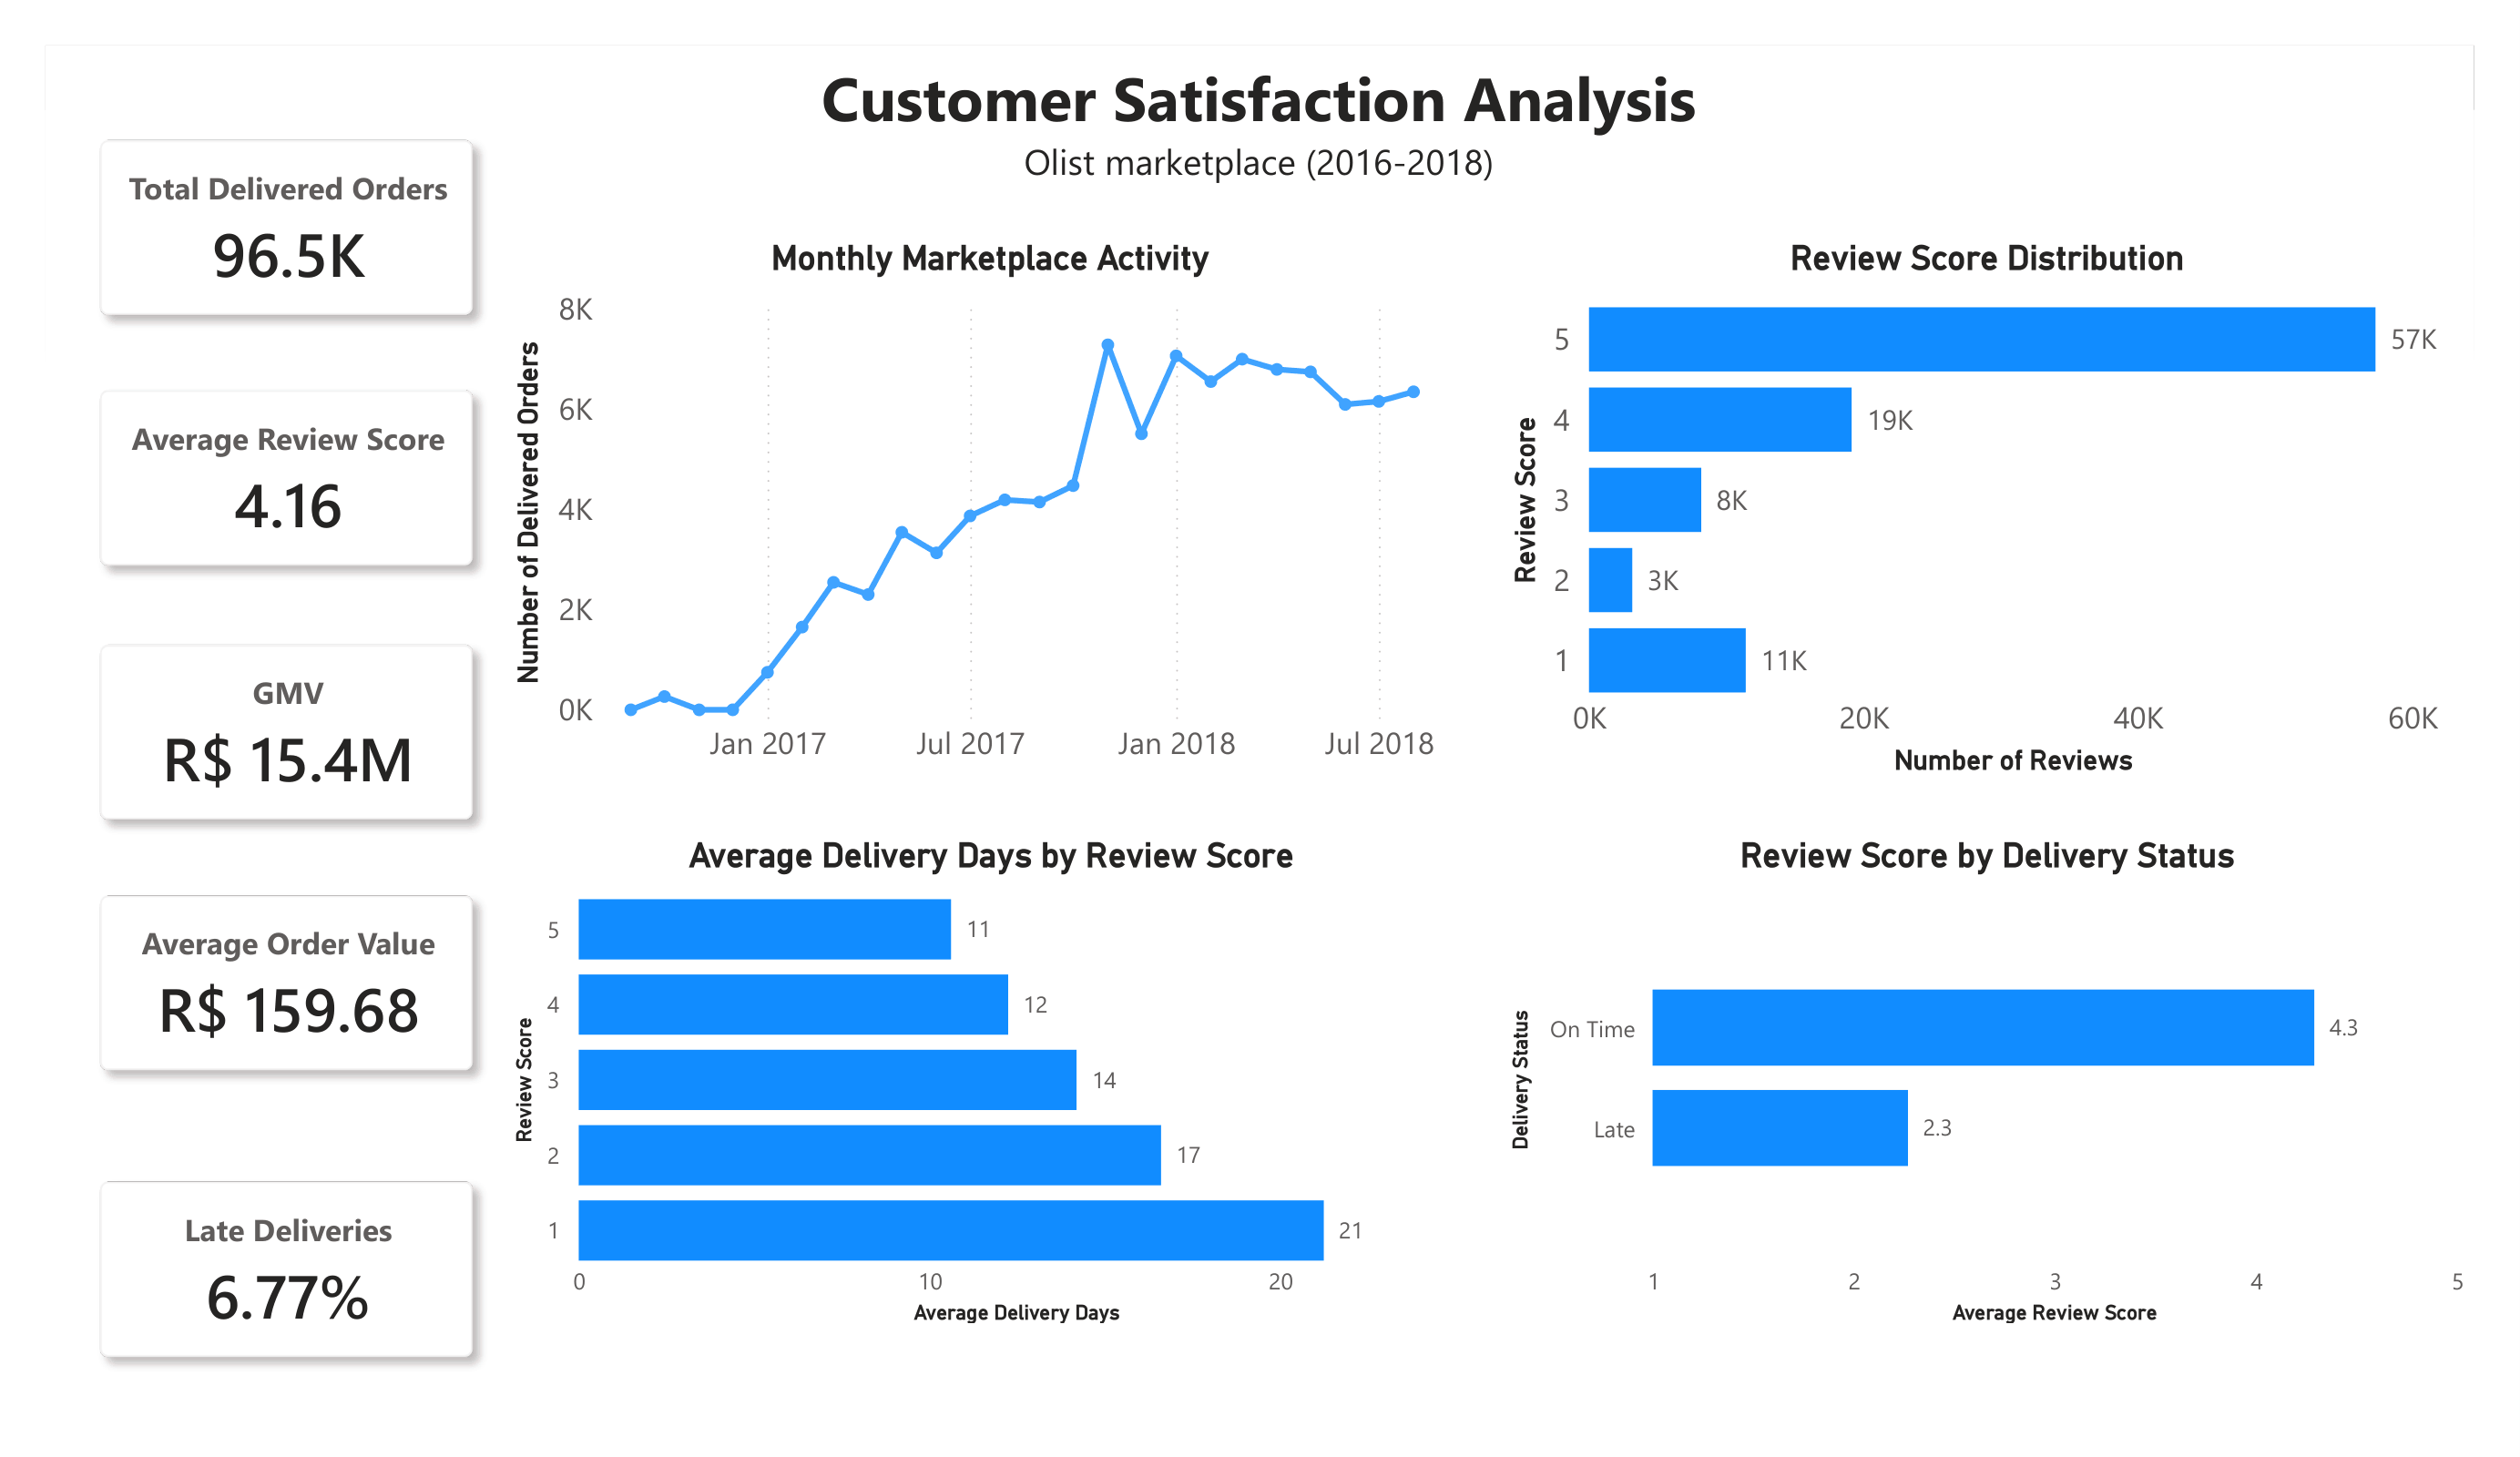

The page's visual inventory and layout, read from the dashboard file:
{"tool":"powerbi","page":{"name":"Executive Overview","canvas":[1280,720],"ordinal":0},"visuals":[{"type":"textbox","box":[174.7,0,929.4,82.9],"z":0},{"type":"cardVisual","fields":{"Data":["Total_delivered_orders.Delivery Display"]},"box":[0,21.4,255,150.4],"z":1},{"type":"cardVisual","fields":{"Data":["Sum(Avg_review_score.Column2)"]},"box":[0,152.7,255,150.4],"z":2},{"type":"cardVisual","fields":{"Data":["GMV.GMV Display"]},"box":[0,286.5,255,150.4],"z":3},{"type":"cardVisual","fields":{"Data":["Sum(Avg_order_value.Column2)"]},"box":[0,419.1,255,150.4],"z":4},{"type":"cardVisual","fields":{"Data":["Sum(Late Deliveries.Column2)"]},"box":[0,569.6,255,150.4],"z":5},{"type":"lineChart","title":"Monthly Marketplace Activity","fields":{"Y":["Sum(monthly_activity.total_orders)"],"Category":["monthly_activity.purchase_month.Variation.Date Hierarchy.Year","monthly_activity.purchase_month.Variation.Date Hierarchy.Month"]},"box":[241,100.7,513.8,288.1],"z":6},{"type":"clusteredBarChart","title":"Review Score Distribution","fields":{"Category":["review_score_distr.review_score"],"Y":["Sum(review_score_distr.review_count)"]},"box":[767.5,100.7,512.5,288.1],"z":7},{"type":"clusteredBarChart","title":"Average Delivery Days by Review Score","fields":{"Category":["avg_delivery_by_score.review_score"],"Y":["Sum(avg_delivery_by_score.avg_delivery_days)"]},"box":[242.2,415.6,512.5,262.6],"z":8},{"type":"clusteredBarChart","title":"Review Score by Delivery Status","fields":{"Category":["delivery_status.delivery_status"],"Y":["Sum(delivery_status.avg_review_score)"]},"box":[767.5,415.6,512.5,262.6],"z":9}]}

Visuals, with their boxes on the page's 1280x720 design canvas (x1, y1, x2, y2). These are canvas units, not pixel positions in the 2520x1457 screenshot, which may show the page scaled, cropped or inside an application window:
textbox: pyautogui.locateOnScreen(175, 0, 1104, 83)
cardVisual - Total_delivered_orders.Delivery Display: pyautogui.locateOnScreen(0, 21, 255, 172)
cardVisual - Sum(Avg_review_score.Column2): pyautogui.locateOnScreen(0, 153, 255, 303)
cardVisual - GMV.GMV Display: pyautogui.locateOnScreen(0, 286, 255, 437)
cardVisual - Sum(Avg_order_value.Column2): pyautogui.locateOnScreen(0, 419, 255, 570)
cardVisual - Sum(Late Deliveries.Column2): pyautogui.locateOnScreen(0, 570, 255, 720)
"Monthly Marketplace Activity" lineChart: pyautogui.locateOnScreen(241, 101, 755, 389)
"Review Score Distribution" clusteredBarChart: pyautogui.locateOnScreen(768, 101, 1280, 389)
"Average Delivery Days by Review Score" clusteredBarChart: pyautogui.locateOnScreen(242, 416, 755, 678)
"Review Score by Delivery Status" clusteredBarChart: pyautogui.locateOnScreen(768, 416, 1280, 678)
